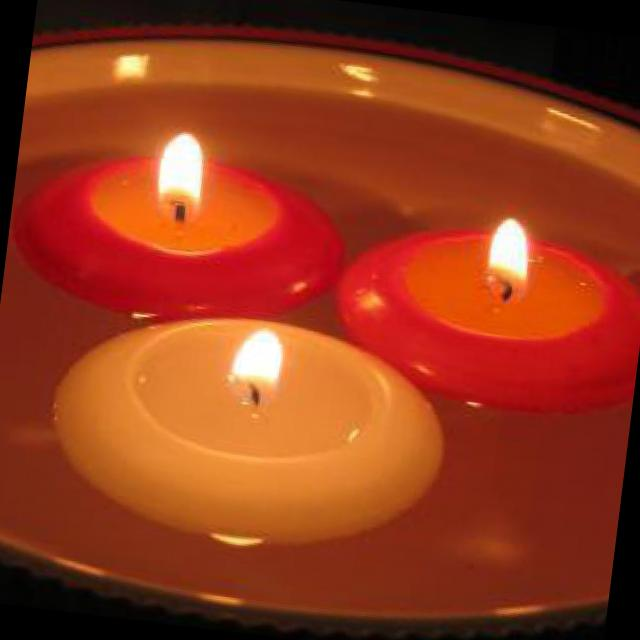fire: (210, 309, 302, 397), (477, 198, 554, 298), (145, 112, 217, 208)
